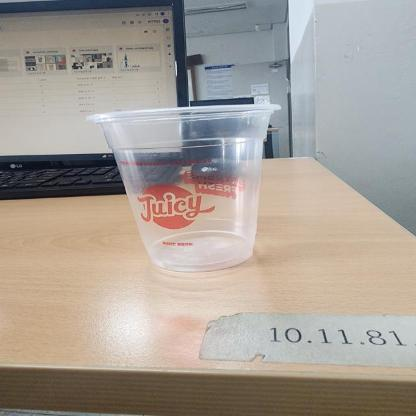Plastic Cup: (85, 102, 281, 272)
